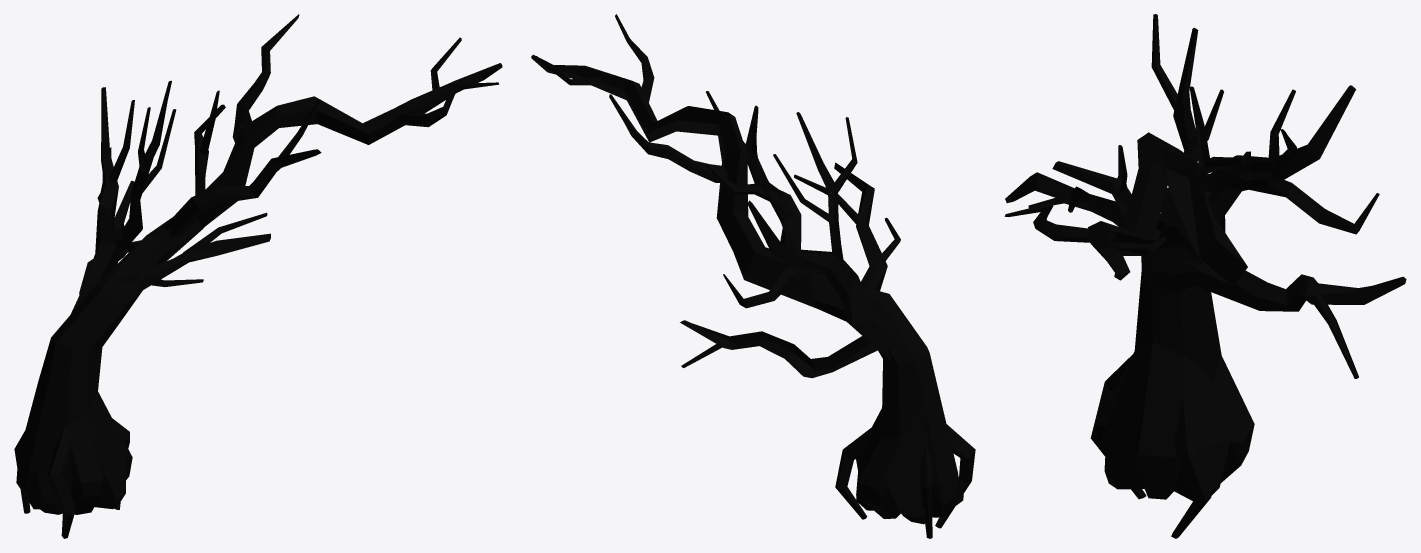
File: dark_SM_Env_Tree_Dead_03.gltf
3 renders of one model, left to right at view 1: azimuth 30°, elevation 25°; view 2: azimuth 150°, elevation 25°; view 3: azimuth 270°, elevation 25°, orthographic. The views are drawn at different scales.
Visible parts, largest first — view 1: SM_Env_Tree_Dead_03; view 2: SM_Env_Tree_Dead_03; view 3: SM_Env_Tree_Dead_03.
Part boxes in pixels (left/top/right/bottom): SM_Env_Tree_Dead_03: left=14, top=14, right=502, bottom=538; SM_Env_Tree_Dead_03: left=531, top=14, right=975, bottom=538; SM_Env_Tree_Dead_03: left=1004, top=14, right=1406, bottom=538.
Bounding box in the file's own units: 8.63 × 7.49 × 4.89.
1 material, 1 textured.
